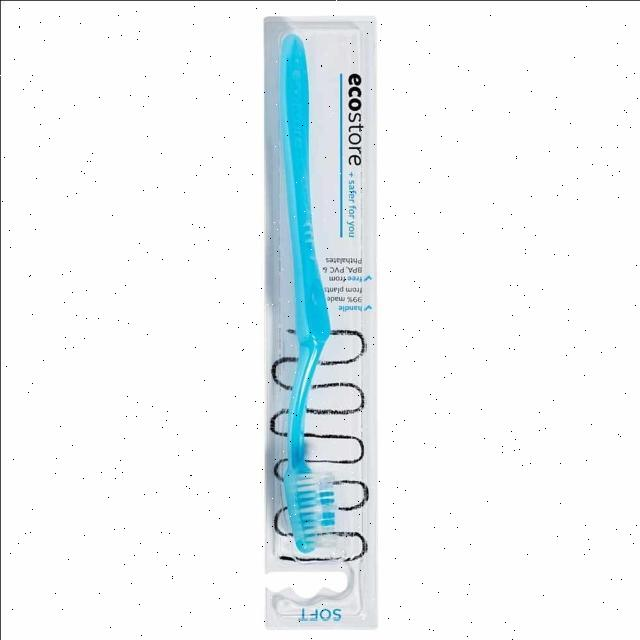toothbrush: (276, 31, 338, 560)
